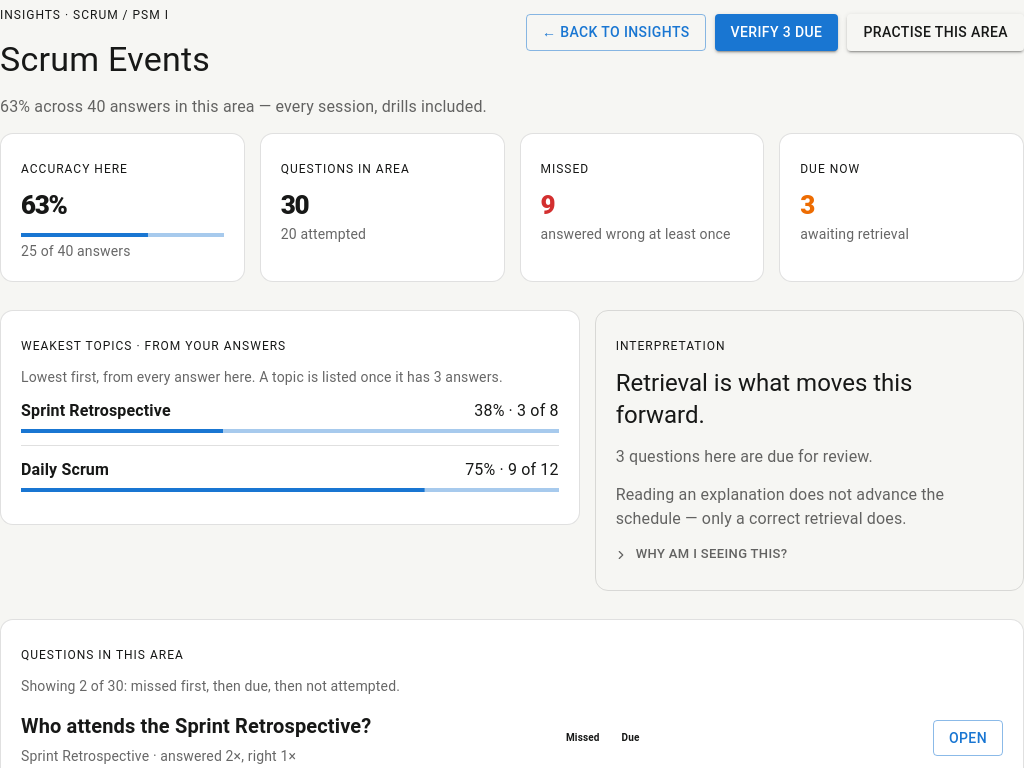
Test: InsightsDomainPage › interprets the area from its figures, with the working one click away
Check: the heading "Retrieval is what moves this forward." is shown, box [616,369,912,429]
Click the button "Why am I seeing this?".
click(702, 555)  # box [612,539,791,570]
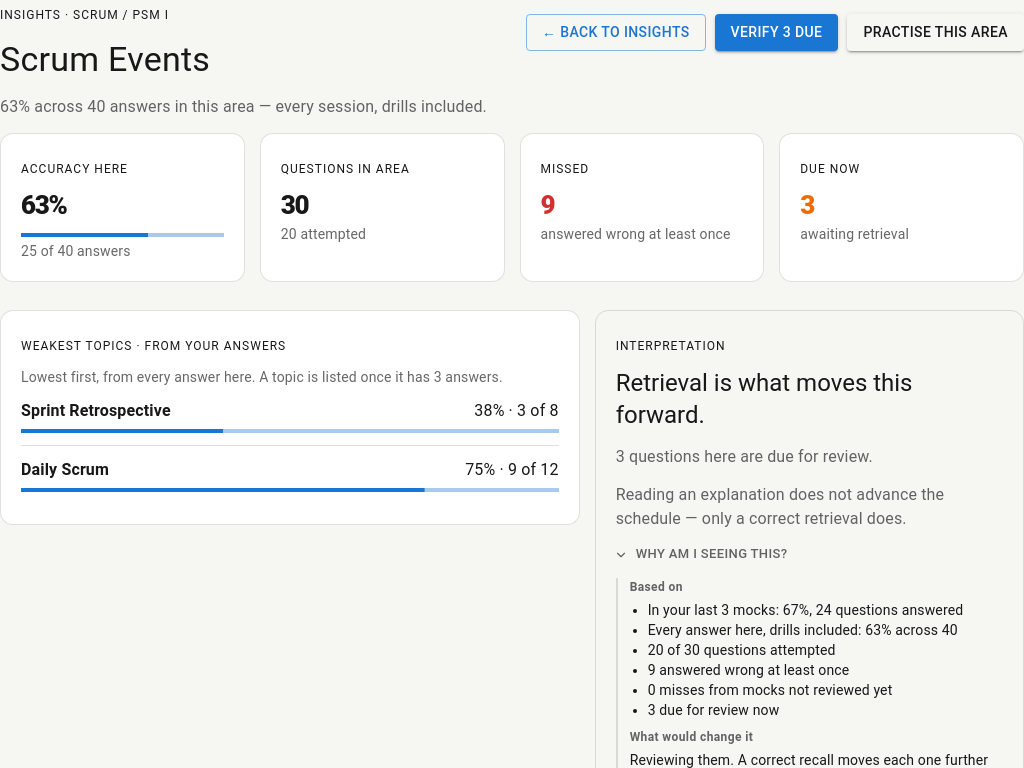
Check: the list item "In your last 3 mocks: 67%, 24 questions answered" is shown, box [648,600,1003,620]
Check: the list item "9 answered wrong at least once" is shown, box [648,662,849,678]
